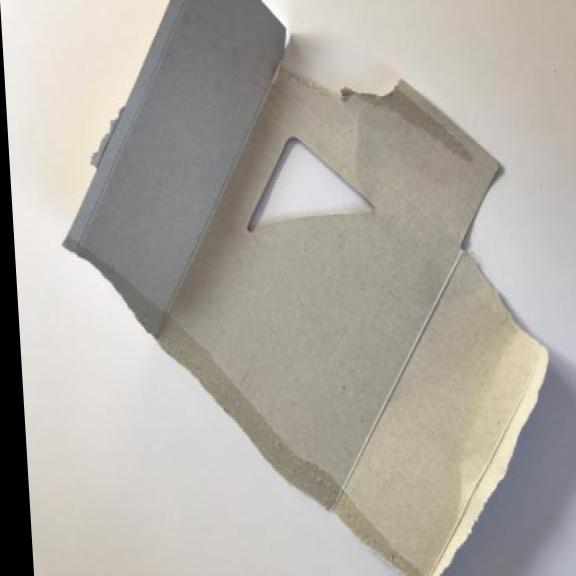Kertas: (52, 0, 563, 576)
